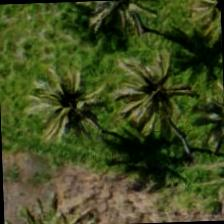Kelapa_Sawit: (108, 49, 201, 142), (23, 64, 116, 157), (68, 0, 161, 49), (168, 0, 223, 55)
